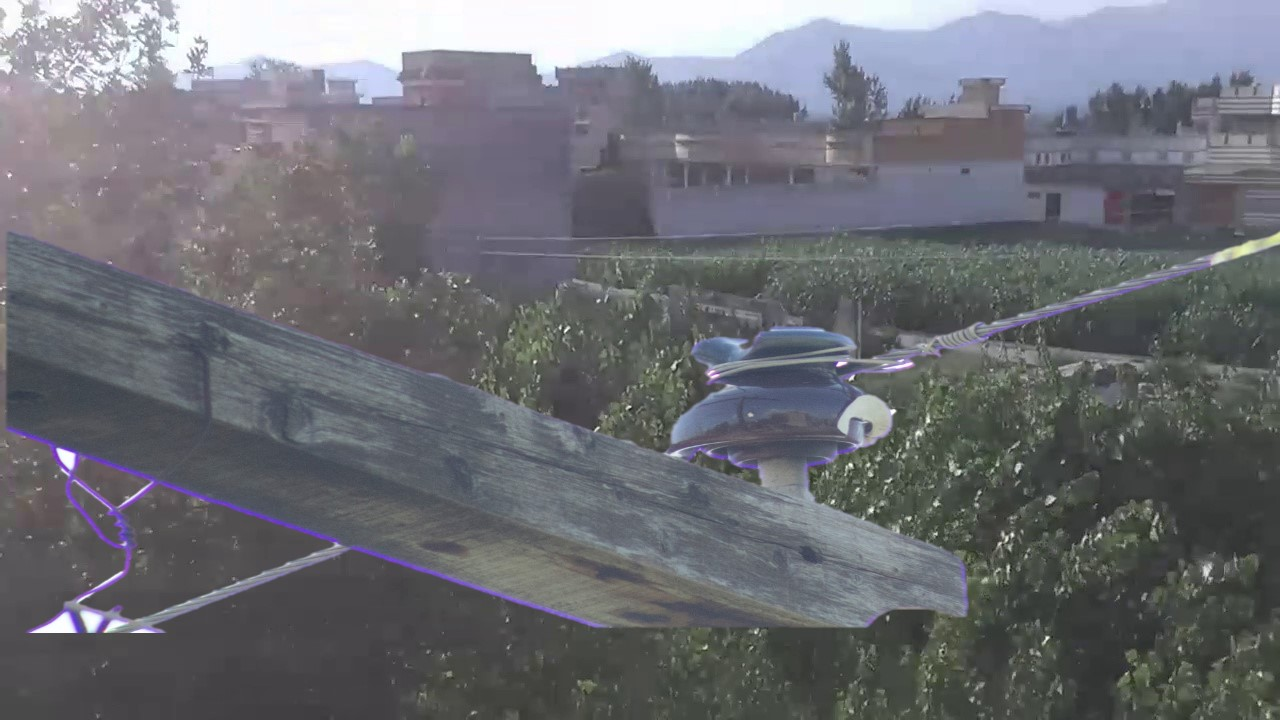defect_pin: (663, 315, 904, 470)
